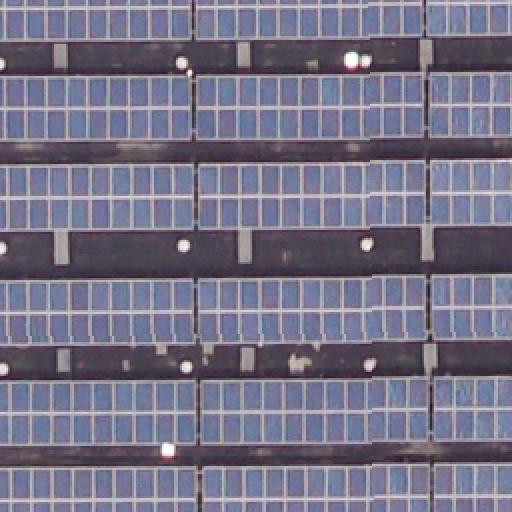solar-panel: (197, 160, 427, 228), (198, 276, 426, 344), (200, 379, 428, 445), (196, 75, 424, 141), (0, 164, 192, 232), (1, 74, 191, 142), (0, 279, 192, 345), (0, 382, 196, 446), (202, 465, 430, 511), (194, 0, 422, 40), (0, 468, 196, 512), (0, 0, 192, 40), (428, 158, 512, 226), (428, 71, 512, 137), (432, 275, 512, 341), (432, 376, 512, 440), (433, 464, 511, 512), (425, 0, 511, 36)
